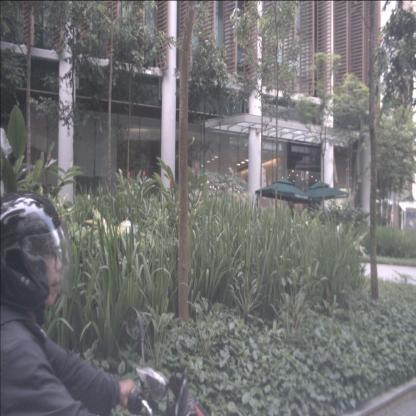vehicle-motorcycle: (0, 188, 213, 415)
